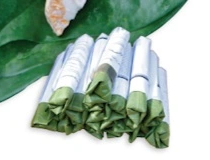bulathwita: (31, 26, 171, 149)
